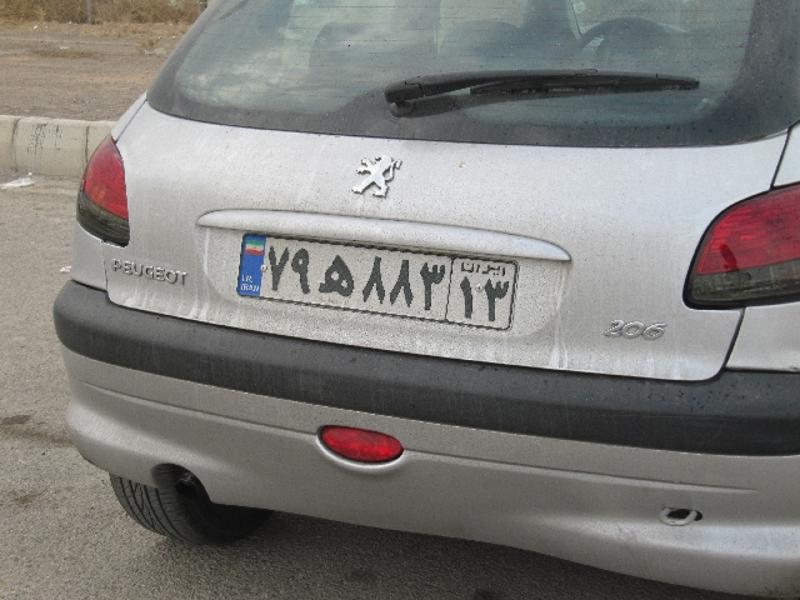Plate: (226, 236, 568, 331)
